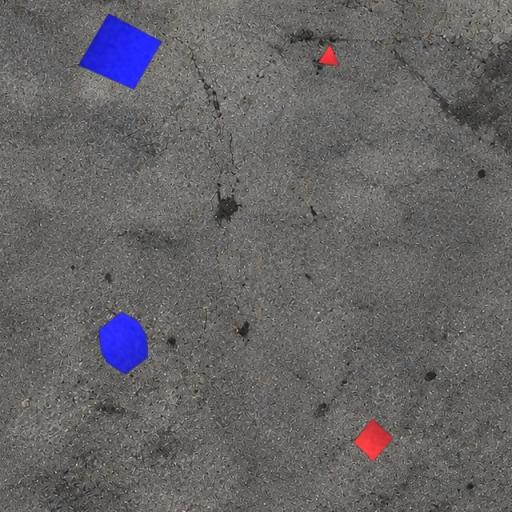BLUE_SQUARE: (78, 13, 162, 90)
RED_SQUARE: (353, 418, 394, 462)
